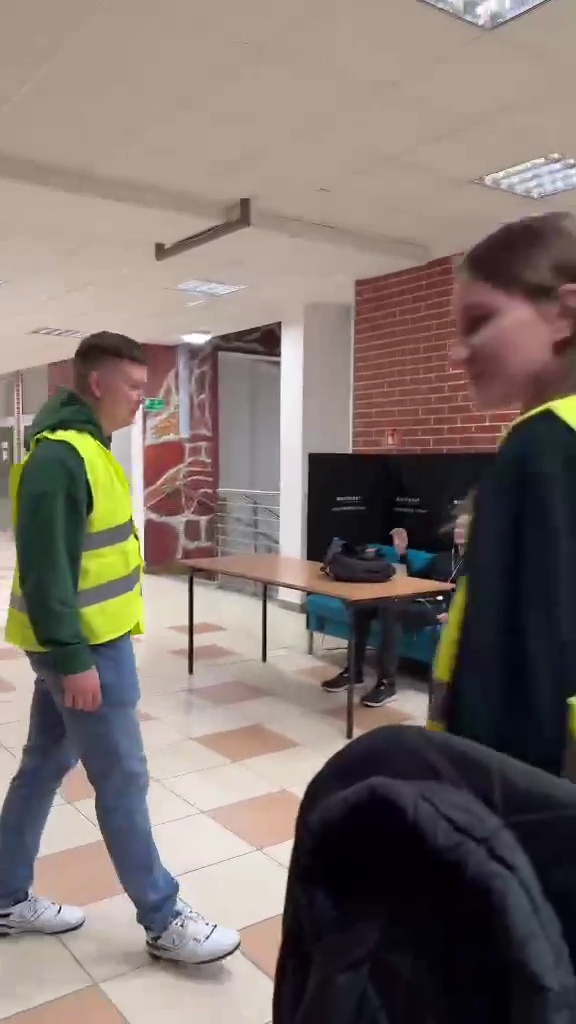vest: (6, 322, 245, 978), (435, 213, 576, 762)
